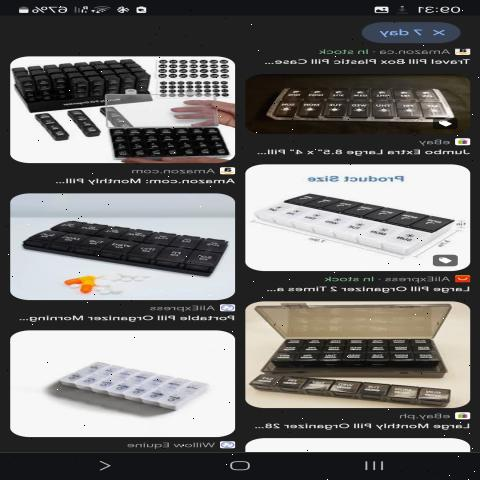PillBox: (258, 178, 464, 264), (19, 214, 229, 286), (264, 71, 460, 141), (252, 330, 449, 373), (94, 121, 236, 160)
